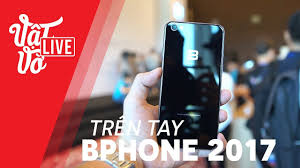bphone: (153, 18, 225, 152)
